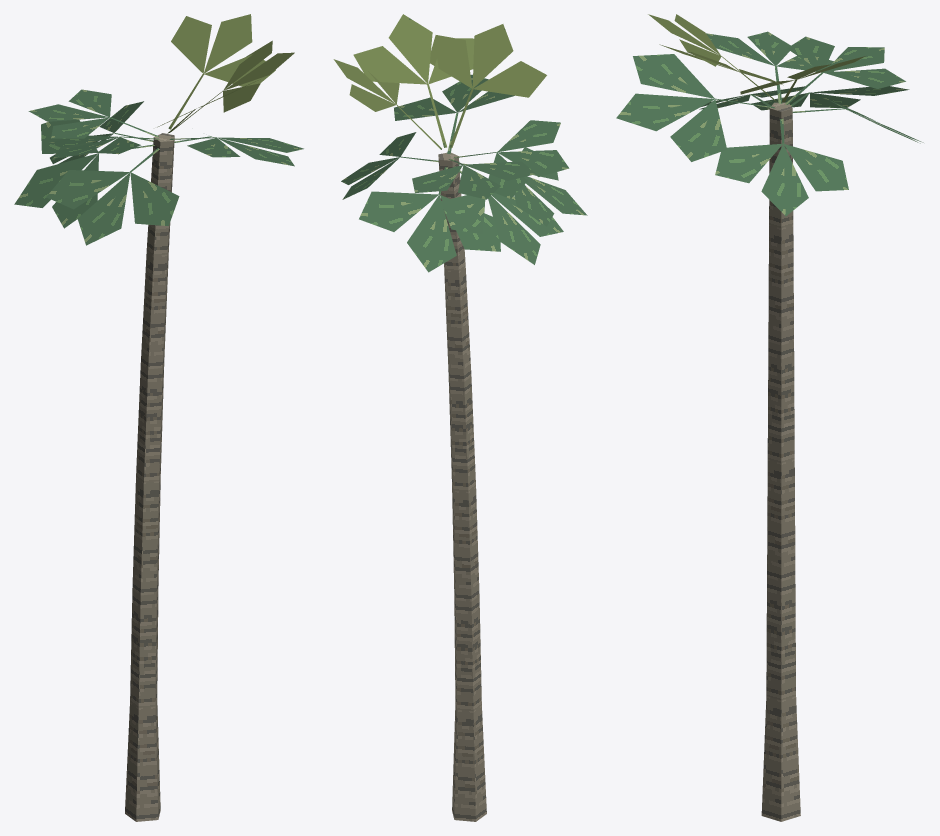
The model's file is mexican-fan-mid.glb.
The picture shows the model from 3 angles, left to right: view 1: azimuth 30°, elevation 25°; view 2: azimuth 150°, elevation 25°; view 3: azimuth 270°, elevation 25°; orthographic projection. The views are drawn at different scales.
Parts seen in each view (by area): view 1: crown_mexican-fan-mid, trunk_mexican-fan-mid; view 2: crown_mexican-fan-mid, trunk_mexican-fan-mid; view 3: crown_mexican-fan-mid, trunk_mexican-fan-mid.
Part boxes in pixels (x1,y1,x2,y2): crown_mexican-fan-mid: (14, 14, 303, 245); trunk_mexican-fan-mid: (125, 133, 174, 821); crown_mexican-fan-mid: (333, 14, 587, 272); trunk_mexican-fan-mid: (438, 152, 486, 821); crown_mexican-fan-mid: (616, 14, 923, 216); trunk_mexican-fan-mid: (761, 102, 800, 821).
Bounding box in the file's own units: 5.33 × 17.11 × 5.87.
Materials: 2 (2 with a texture image).
